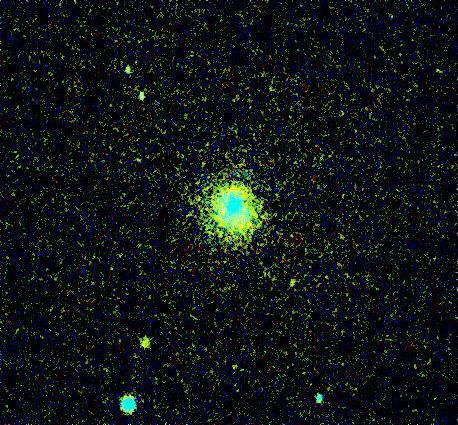star: (132, 327, 162, 357)
